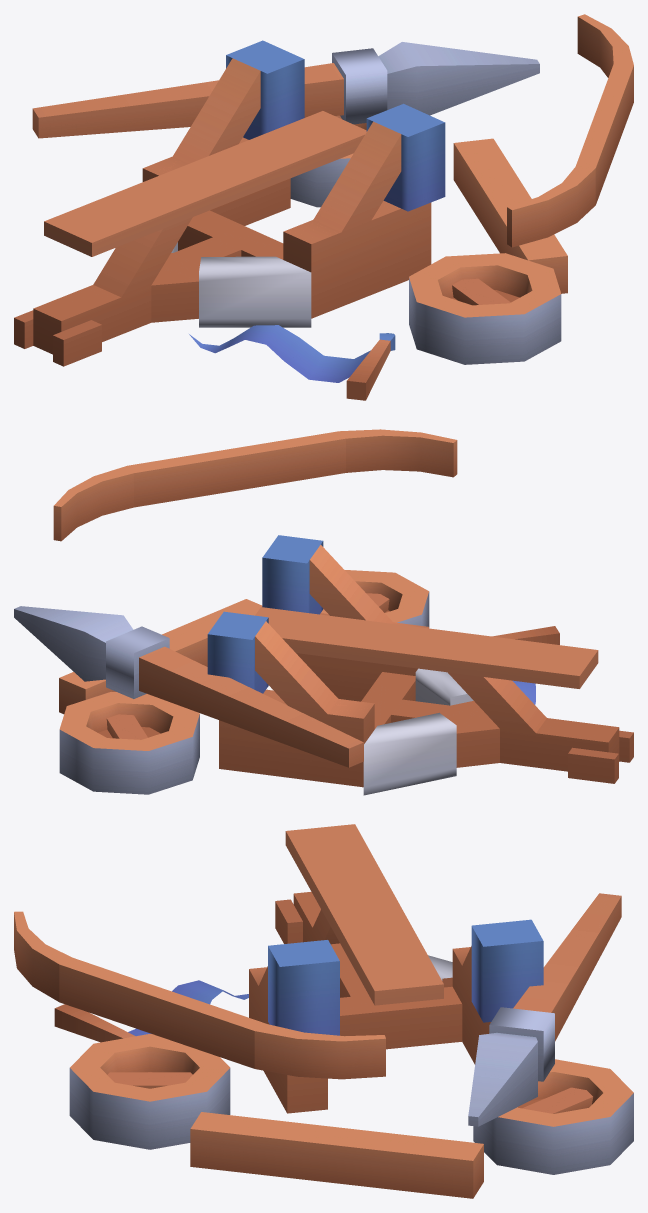
The model's file is siege-ballista-demolished.glb.
The picture shows the model from 3 angles, top to bottom: view 1: azimuth 30°, elevation 25°; view 2: azimuth 150°, elevation 25°; view 3: azimuth 270°, elevation 25°; orthographic projection. The views are drawn at different scales.
Visible parts, largest first — view 1: siege-ballista-demolished; view 2: siege-ballista-demolished; view 3: siege-ballista-demolished.
Part boxes in pixels (<box>): siege-ballista-demolished: <box>14,14,633,400</box>; siege-ballista-demolished: <box>14,429,633,795</box>; siege-ballista-demolished: <box>14,824,633,1198</box>.
Size of the model in its own units: 1.75 by 0.5096 by 1.55.
1 material, 1 textured.
